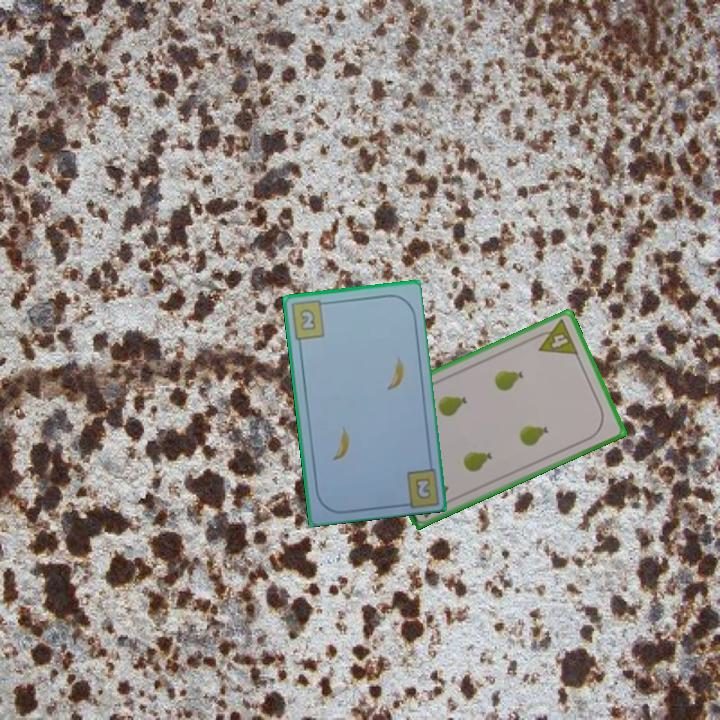2b: (288, 297, 332, 343), (411, 474, 434, 502)
4p: (530, 316, 581, 358)
